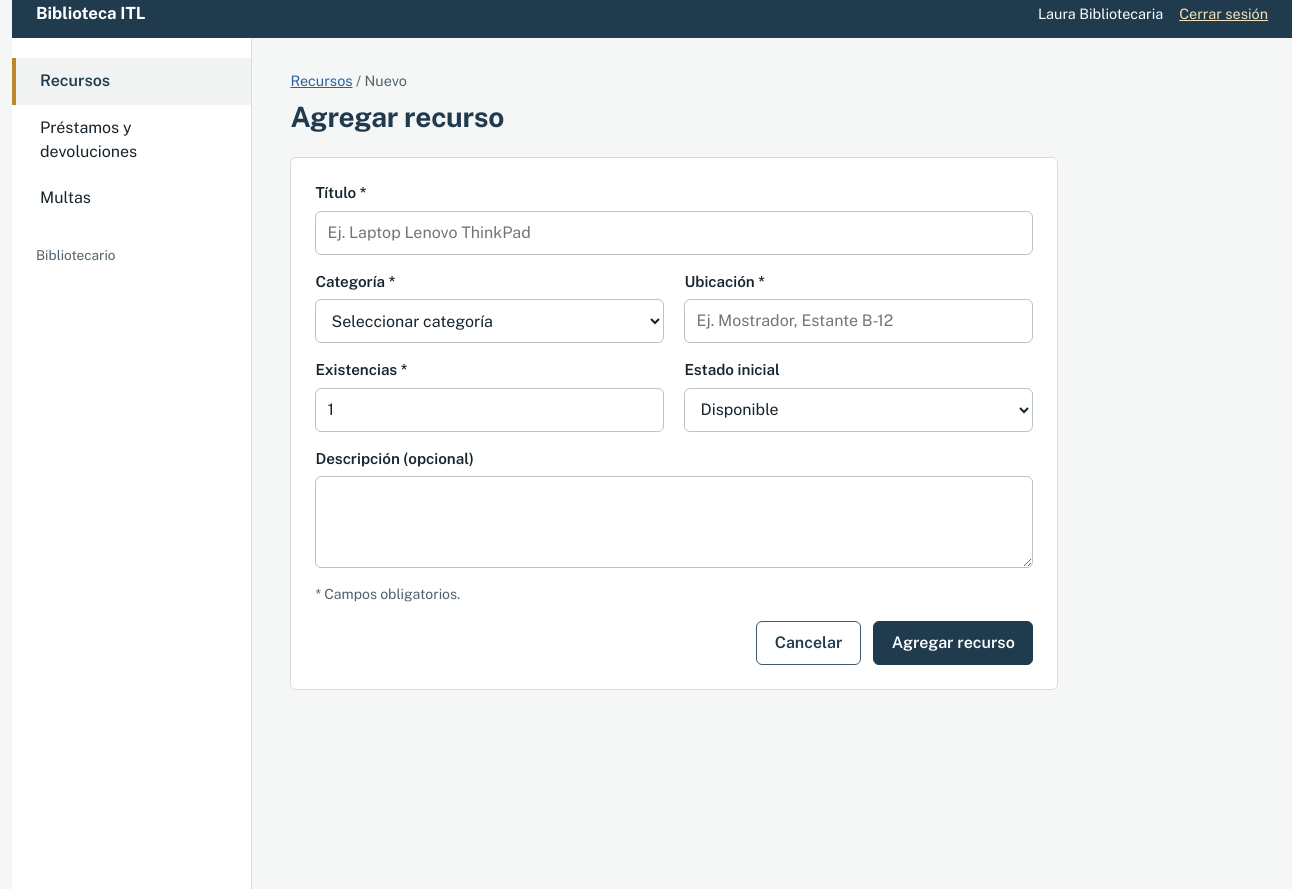
Test: Navegabilidad (mapa de la figura 7.1) › las migas del formulario regresan a Recursos
Click the 2nd link "Recursos": (321, 81) [290,72,352,89]
(page scrolled)
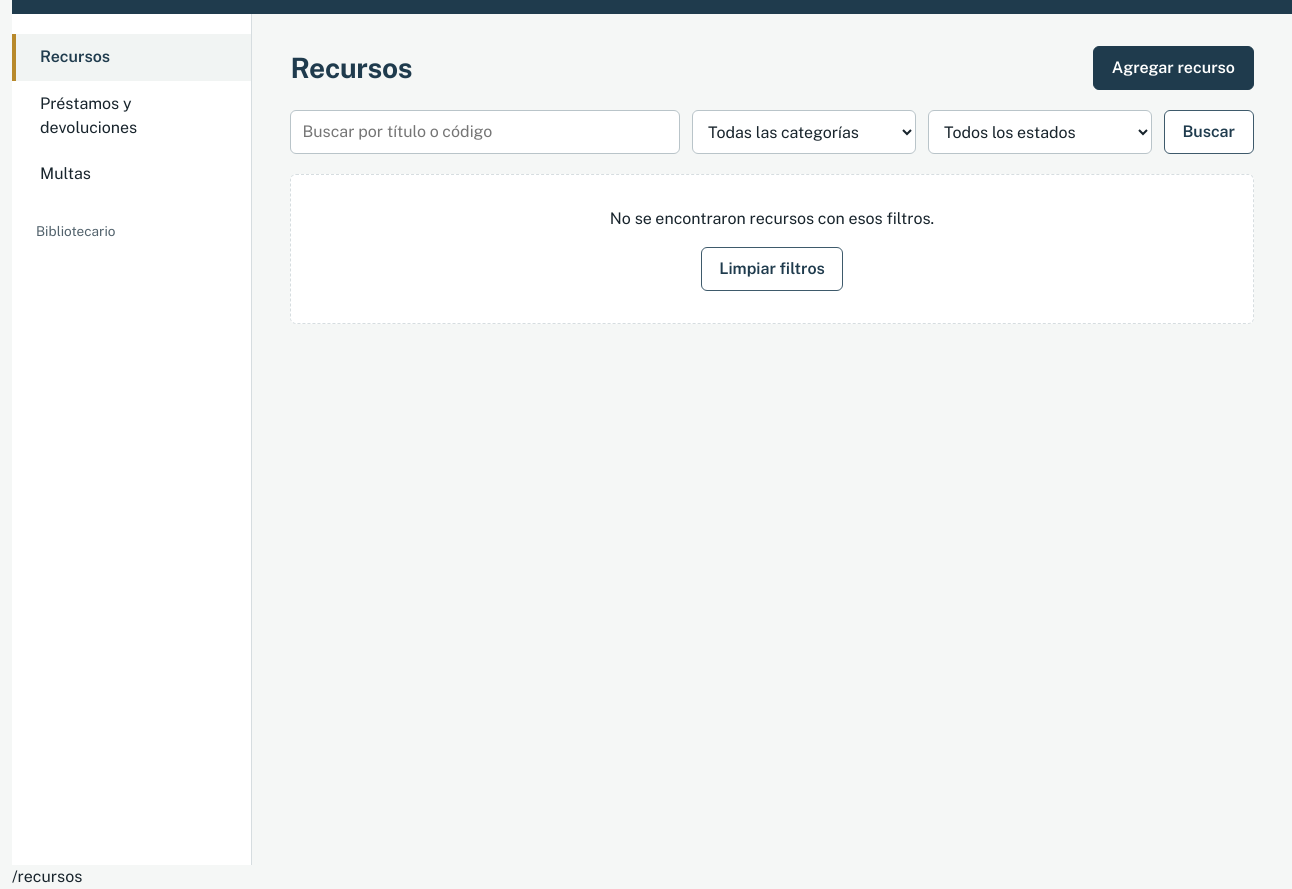
Result: the text with test id "ruta" reads "/recursos" at [12,867,82,886]
